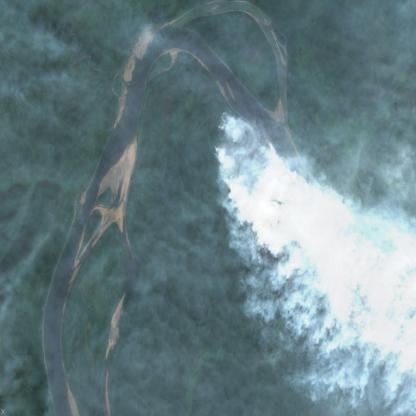fire: (214, 109, 281, 227)
